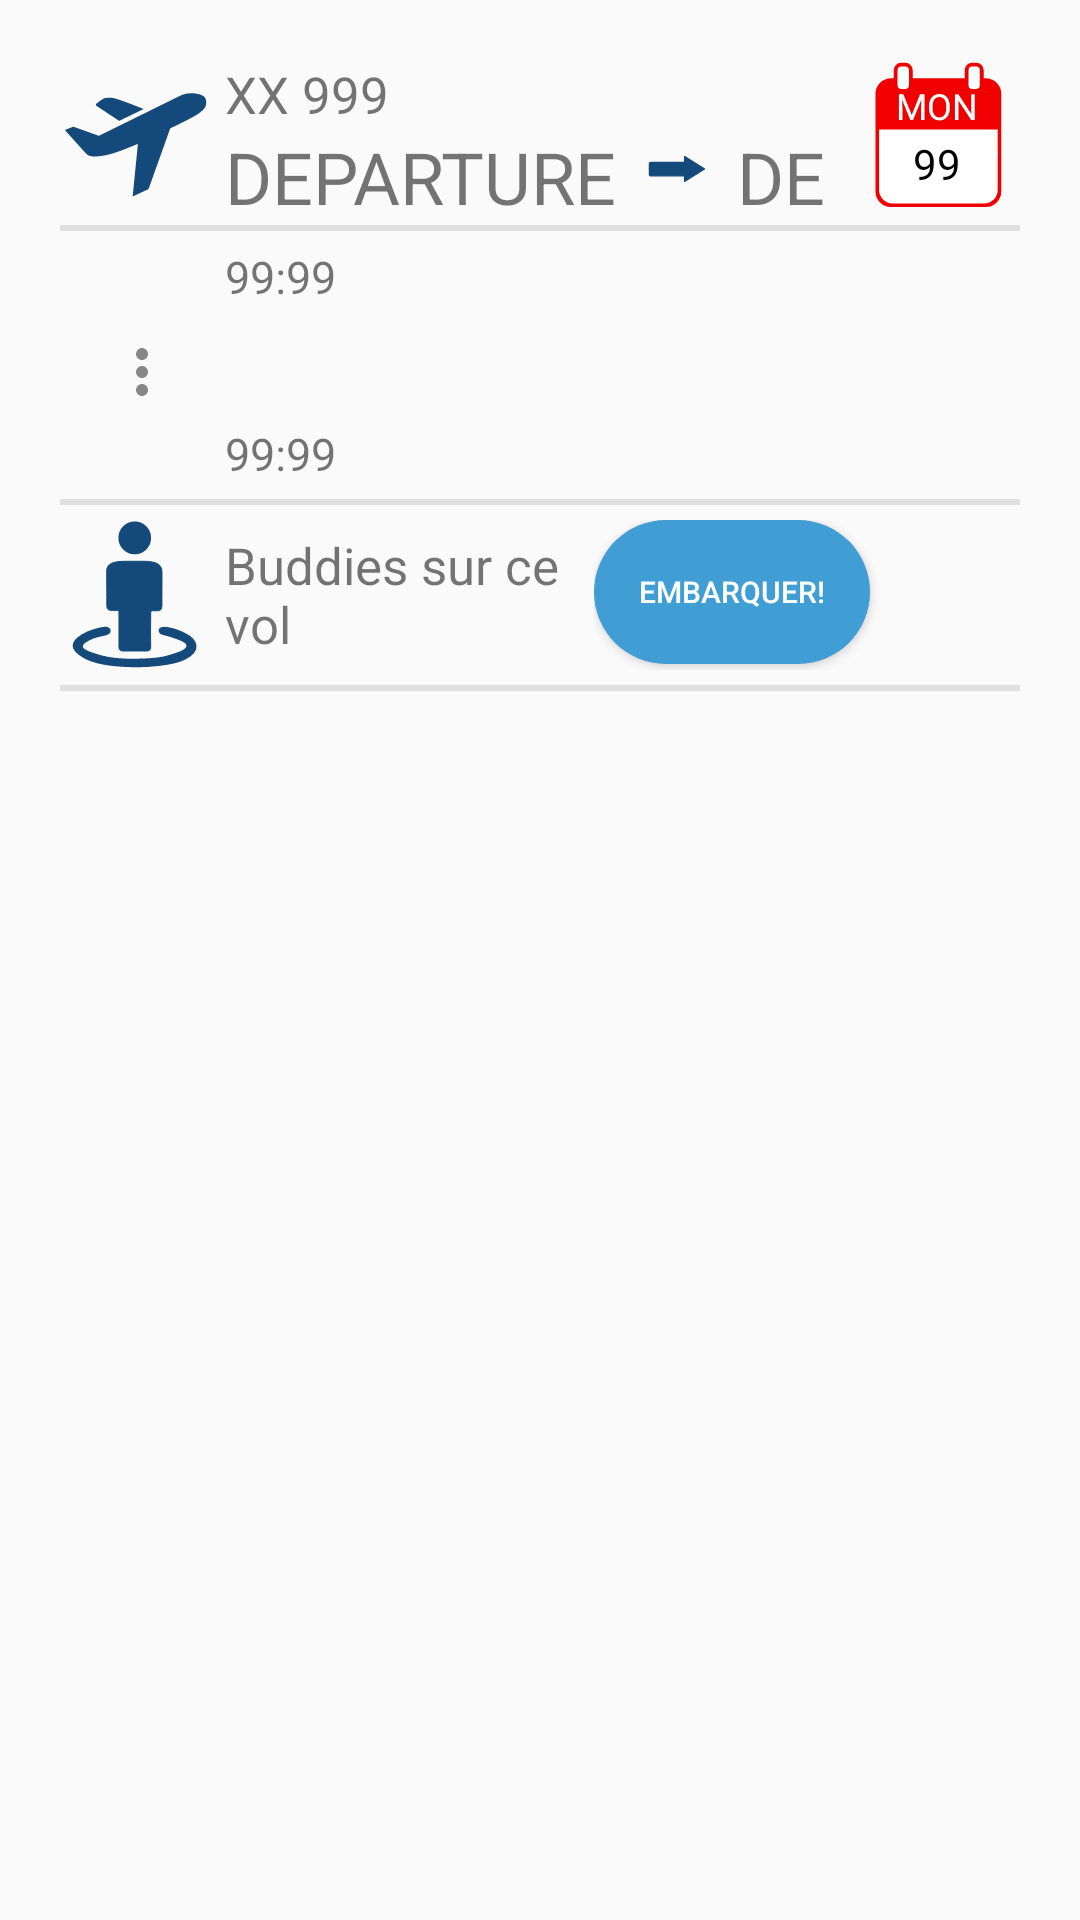

Screen size 1080×1920. Icon name, then its box in pixels as [x1,y1,x2,y2]:
arrow forward thick: [648,156,705,182]
callendar: [875,62,1002,207]
detail more: [136,348,148,396]
flight plane diagonal: [65,93,207,197]
